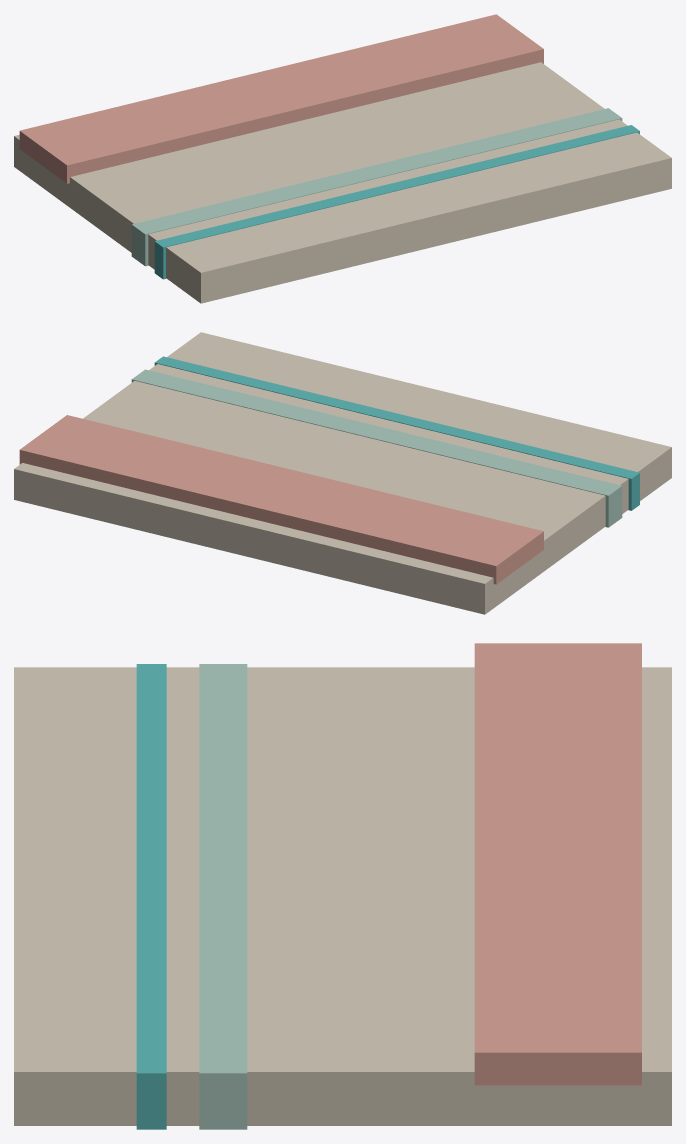
The model's file is cama_cobertor.glb.
3 renders of one model, top to bottom at view 1: azimuth 30°, elevation 25°; view 2: azimuth 150°, elevation 25°; view 3: azimuth 270°, elevation 25°, orthographic. The views are drawn at different scales.
Parts seen in each view (by area): view 1: CAMA_COBERTOR_v01; view 2: CAMA_COBERTOR_v01; view 3: CAMA_COBERTOR_v01.
Part boxes in pixels (<box>): CAMA_COBERTOR_v01: <box>14,14,671,303</box>; CAMA_COBERTOR_v01: <box>14,332,671,614</box>; CAMA_COBERTOR_v01: <box>14,643,671,1129</box>.
Bounding box in the file's own units: 1.62 × 0.142 × 1.1.
